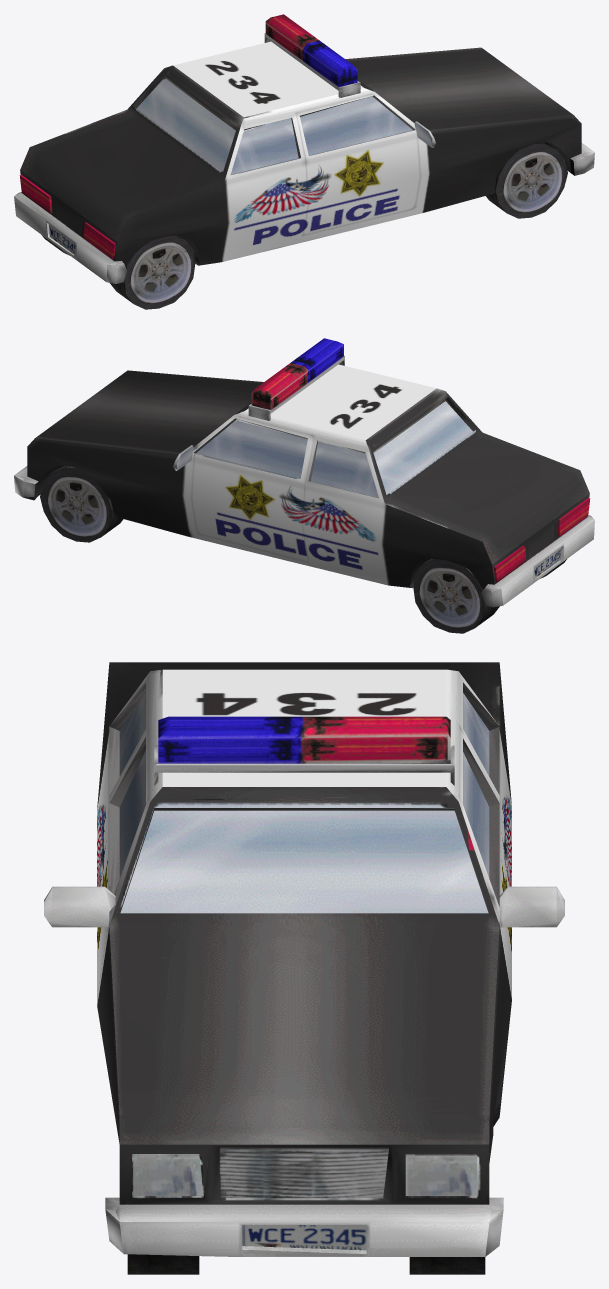
File: policecar.obj
The picture shows the model from 3 angles, top to bottom: view 1: azimuth 30°, elevation 25°; view 2: azimuth 150°, elevation 25°; view 3: azimuth 270°, elevation 25°; orthographic projection. The views are drawn at different scales.
Parts seen in each view (by area): view 1: Group; view 2: Group; view 3: Group.
Boxes of the visible parts, box(x1,y1,x2,y2) form: Group: box(14, 14, 594, 309); Group: box(14, 338, 594, 633); Group: box(44, 662, 564, 1274).
Size of the model in its own units: 129 by 46.88 by 59.49.
